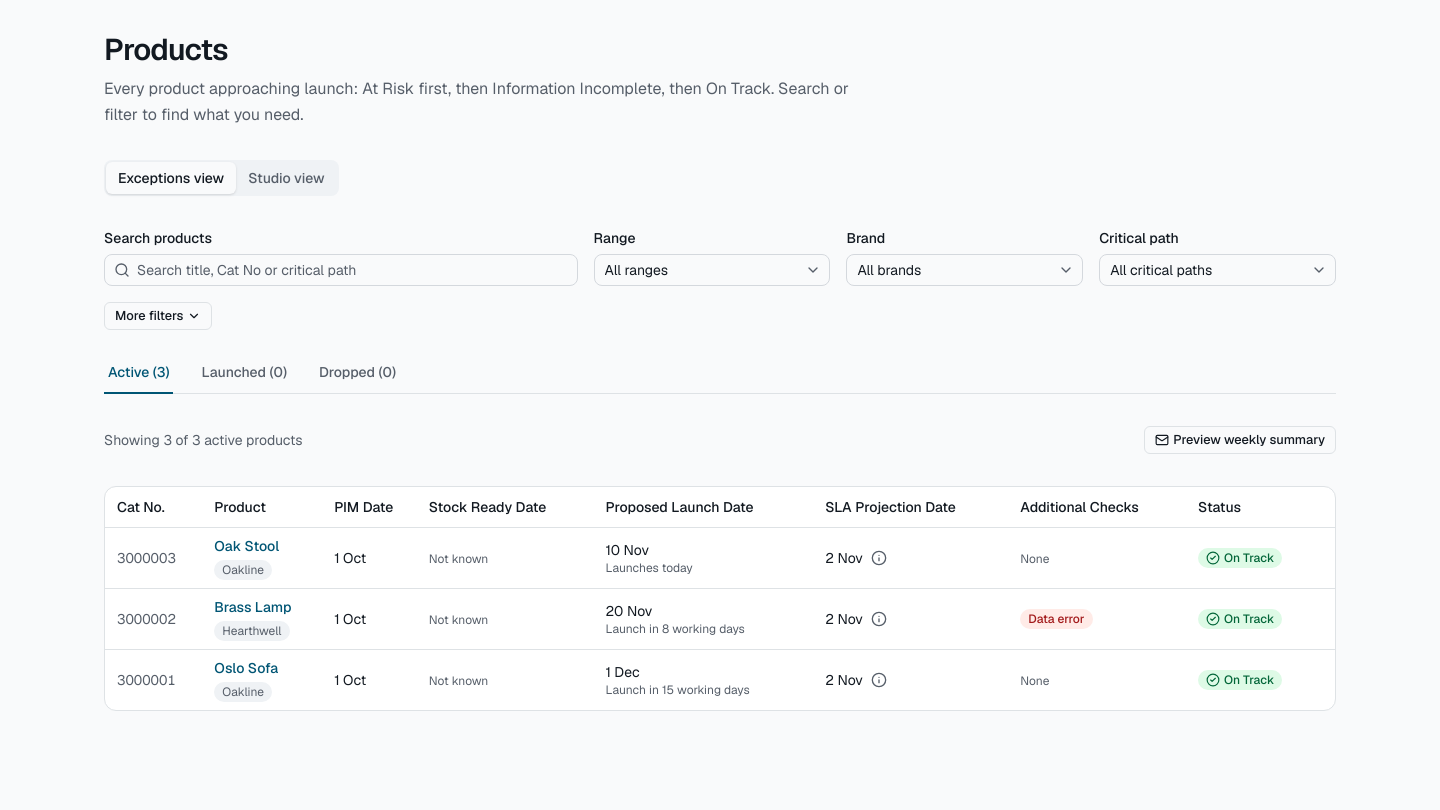
Test: Studio table › shows missing values as Not provided and data errors as errors
This screenshot has width=1440, height=810.
Step 1. Click the button "Studio view" → click(286, 178), box [236, 162, 337, 194]
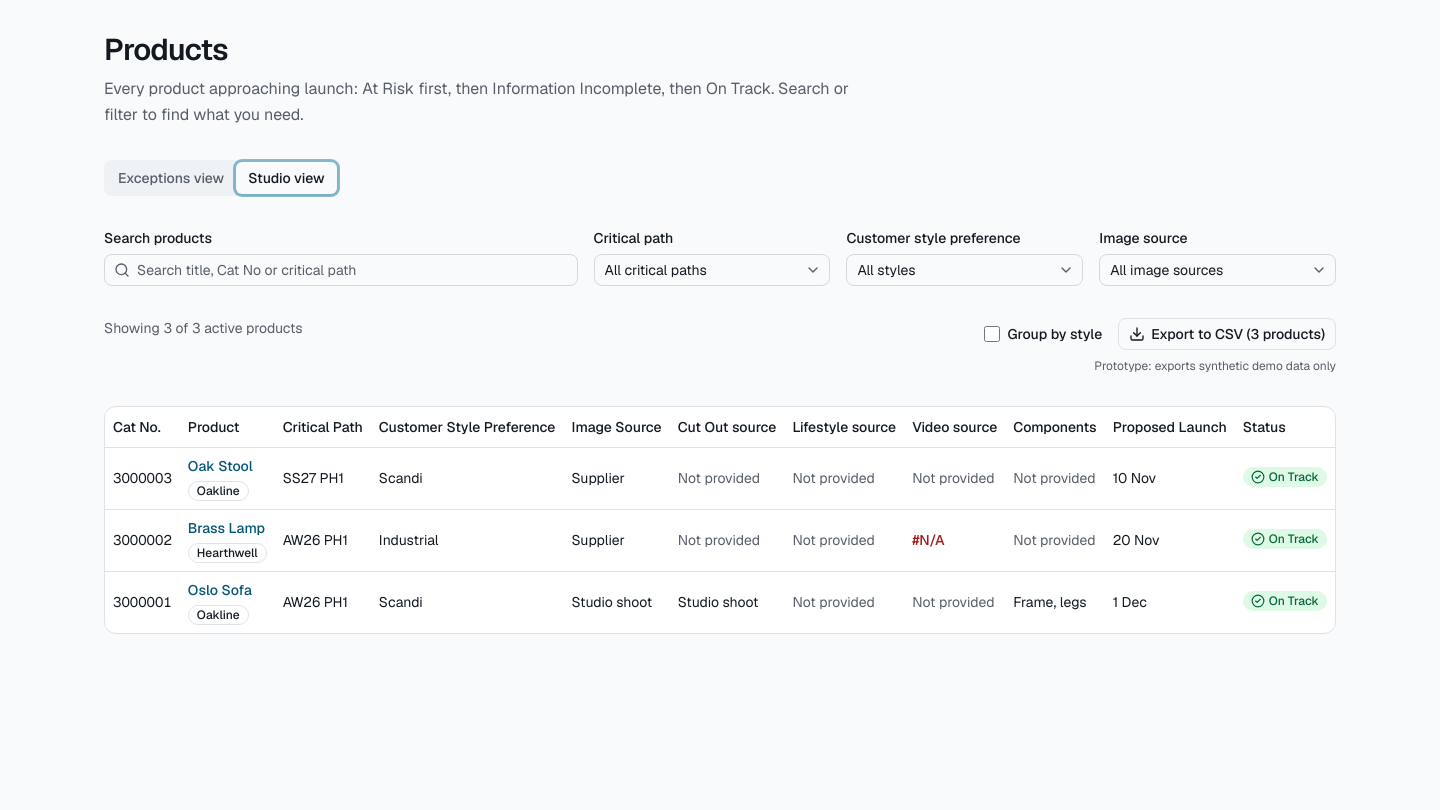
Check: the 1st text "Not provided" is shown, box [678, 469, 760, 487]
